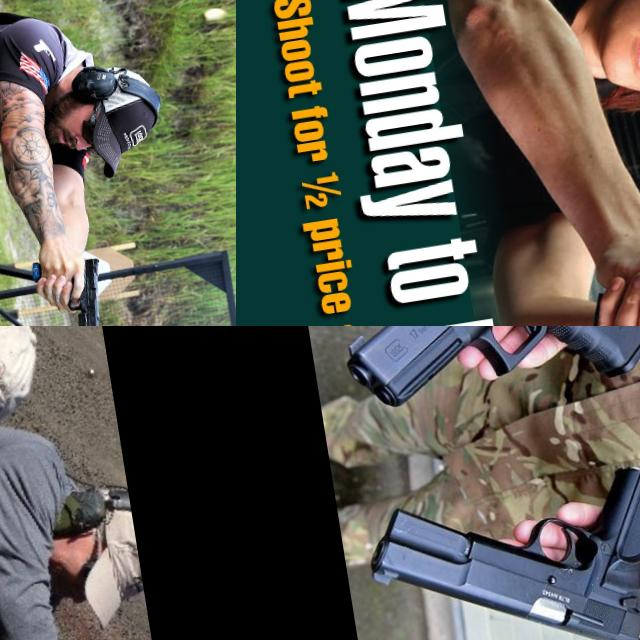handgun: (356, 456, 640, 640), (319, 326, 640, 445), (57, 255, 114, 326)
